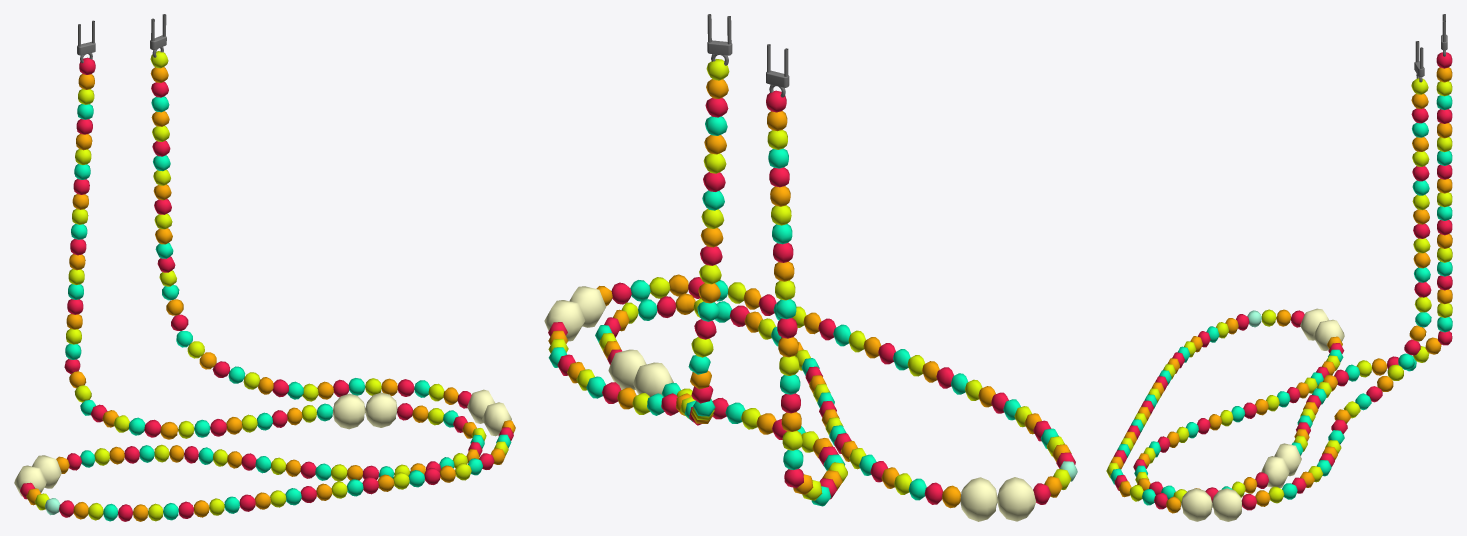
Rendered from strap2.fbx.
3 renders of one model, left to right at view 1: azimuth 30°, elevation 25°; view 2: azimuth 150°, elevation 25°; view 3: azimuth 270°, elevation 25°, orthographic. The views are drawn at different scales.
Parts seen in each view (by area): view 1: Strap03.002; view 2: Strap03.002; view 3: Strap03.002.
Part boxes in pixels (<box>): Strap03.002: <box>14,14,515,521</box>; Strap03.002: <box>544,14,1077,521</box>; Strap03.002: <box>1106,14,1452,521</box>.
Size of the model in its own units: 467 by 403 by 333.
